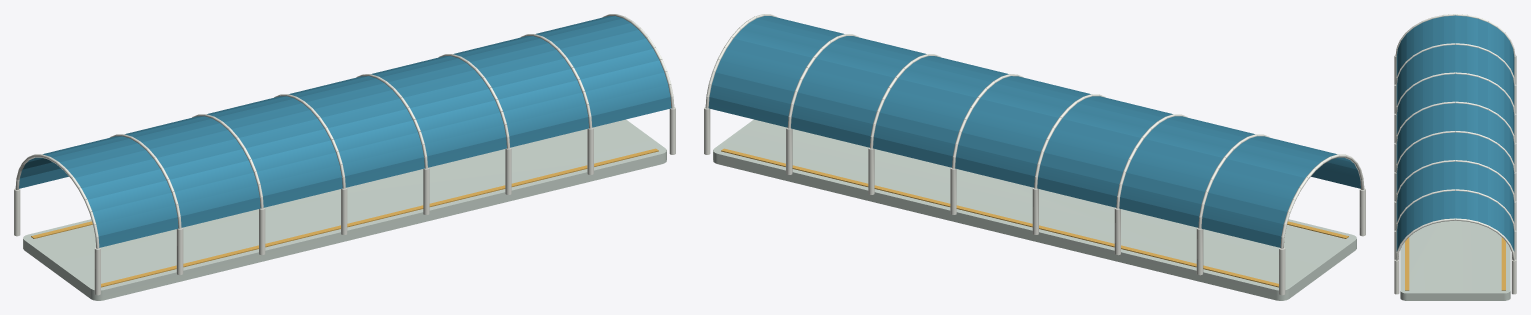
File: station-canopy-low.glb
The picture shows the model from 3 angles, left to right: view 1: azimuth 30°, elevation 25°; view 2: azimuth 150°, elevation 25°; view 3: azimuth 270°, elevation 25°; orthographic projection. The views are drawn at different scales.
Parts seen in each view (by area): view 1: blue station vault, raised platform, station canopy arch, platform safety strip; view 2: blue station vault, raised platform, station canopy arch, platform safety strip; view 3: blue station vault, raised platform, station canopy arch, platform safety strip.
Boxes of the visible parts, bbox=[...] form: blue station vault: bbox=[19, 16, 671, 247]; raised platform: bbox=[23, 119, 666, 300]; station canopy arch: bbox=[14, 14, 675, 295]; platform safety strip: bbox=[31, 148, 658, 287]; blue station vault: bbox=[708, 16, 1360, 247]; raised platform: bbox=[713, 119, 1356, 300]; station canopy arch: bbox=[704, 14, 1365, 295]; platform safety strip: bbox=[721, 148, 1348, 287]; blue station vault: bbox=[1396, 15, 1514, 251]; raised platform: bbox=[1400, 220, 1510, 300]; station canopy arch: bbox=[1394, 14, 1516, 294]; platform safety strip: bbox=[1405, 237, 1505, 290].
Size of the model in its own units: 14.14 by 2.64 by 3.54.
